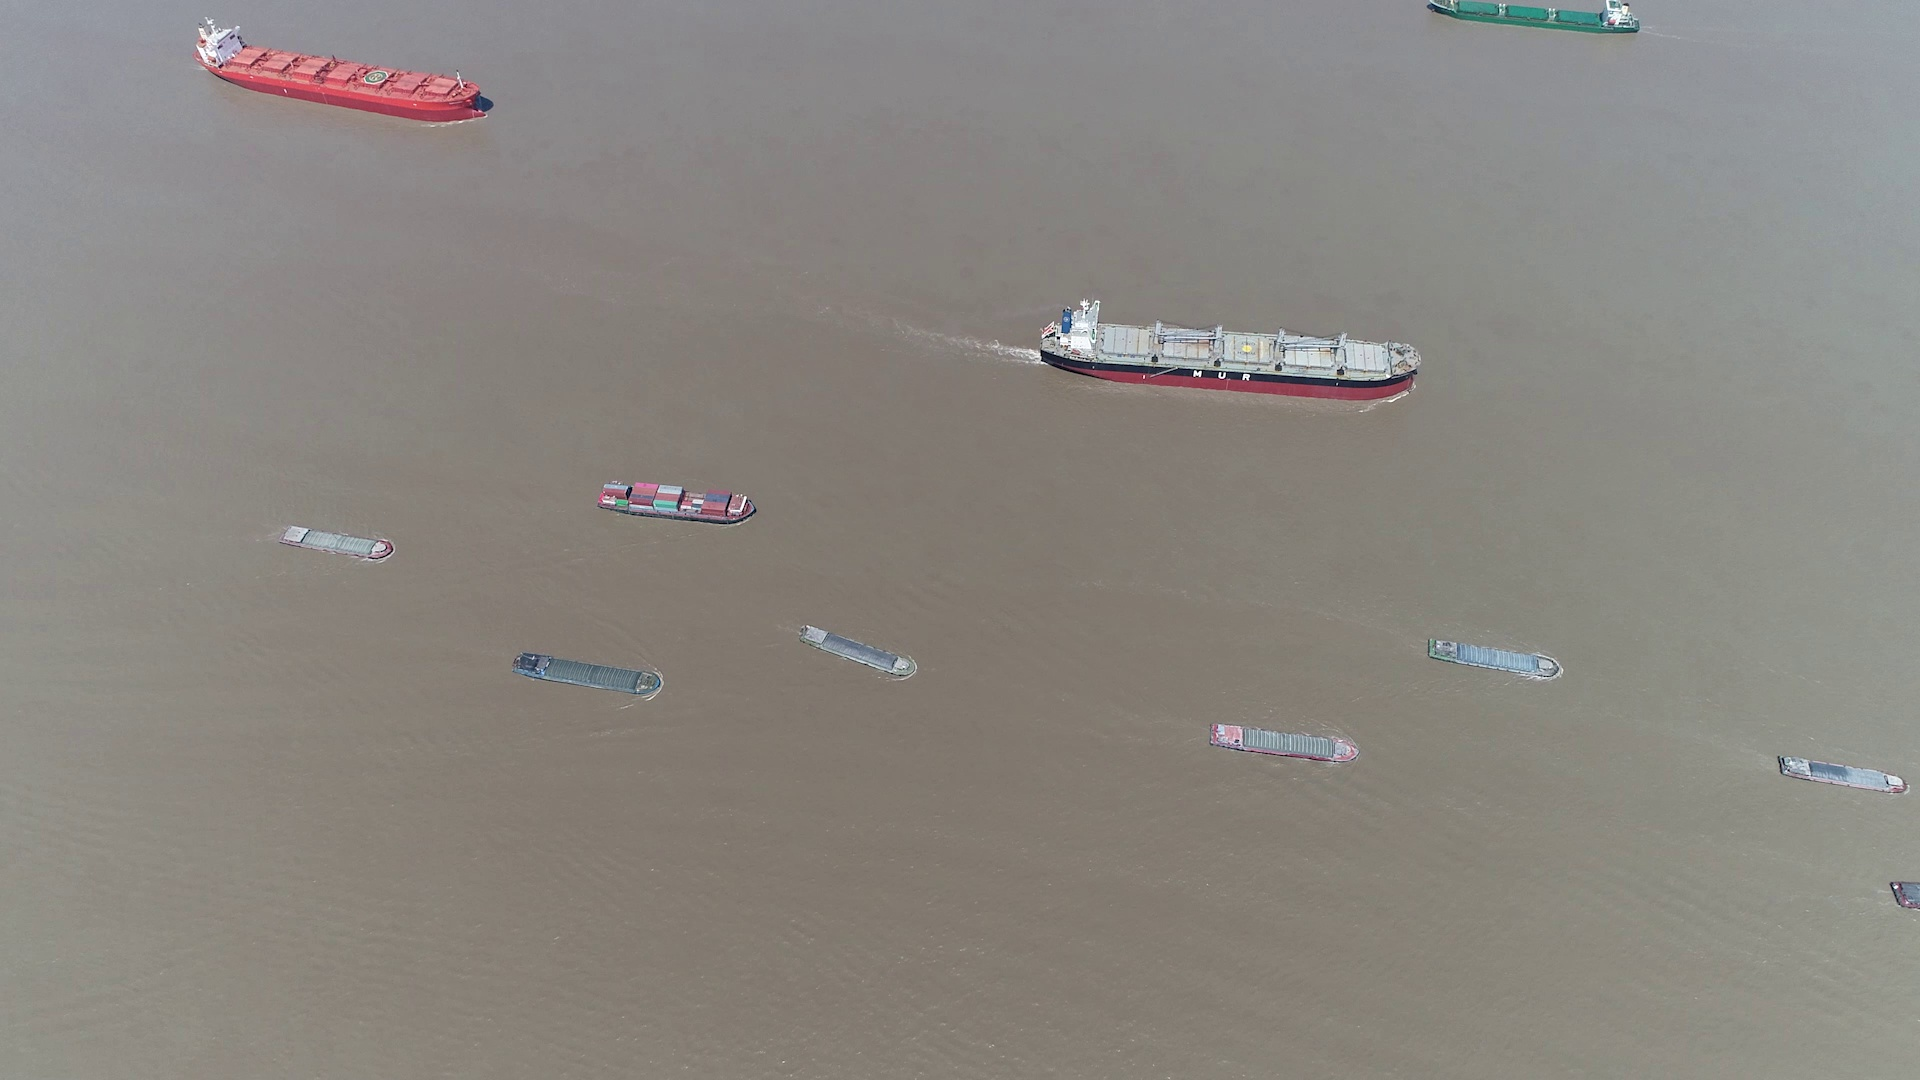ship: (1040, 302, 1419, 400), (196, 21, 491, 123), (1427, 0, 1639, 34), (597, 480, 757, 525), (800, 625, 918, 682), (513, 653, 662, 696), (1209, 723, 1360, 765), (1425, 637, 1563, 679), (1775, 756, 1905, 794), (280, 525, 397, 560), (1890, 881, 1920, 913)
